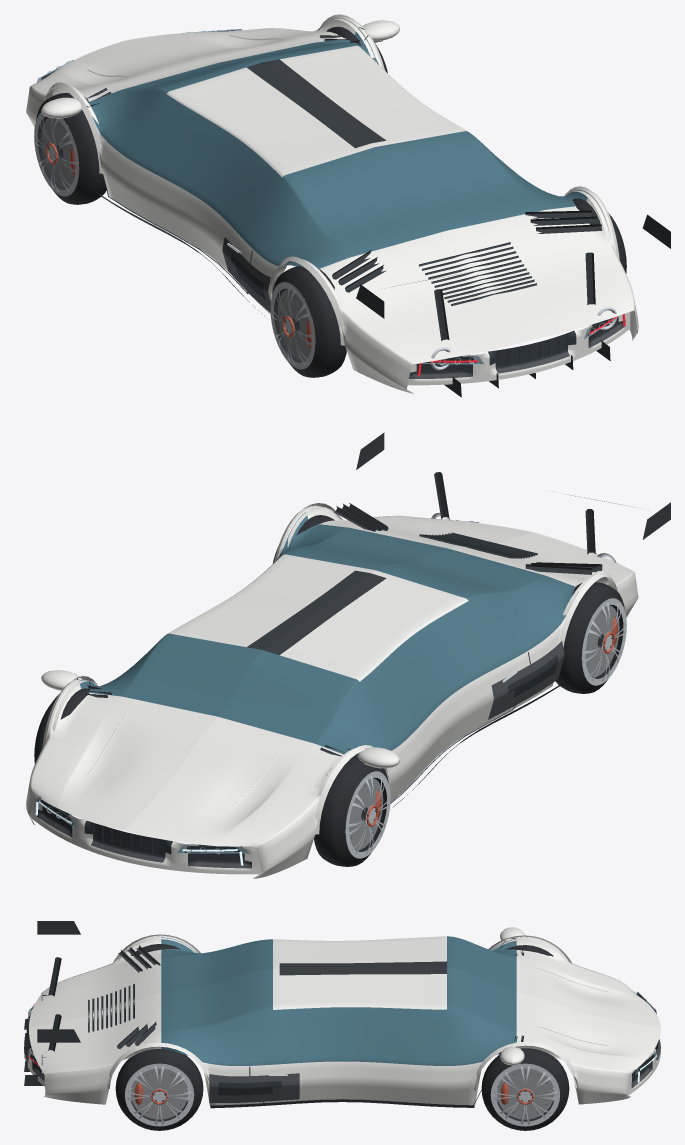
The model's file is aether_one_medium.glb.
3 views of the same model, one above another, from view 1: azimuth 30°, elevation 25°; view 2: azimuth 150°, elevation 25°; view 3: azimuth 270°, elevation 25° (orthographic). The views are drawn at different scales.
Visible parts, largest first — view 1: Body, Wheel_2, Wheel_0, Wheel_3; view 2: Body, Wheel_0, Wheel_2, Wheel_1; view 3: Body, Wheel_3, Wheel_1.
Boxes of the visible parts, x1=… form: Body: x1=26, y1=14, x2=670, y2=397; Wheel_2: x1=270, y1=266, x2=346, y2=377; Wheel_0: x1=34, y1=92, x2=106, y2=204; Wheel_3: x1=572, y1=198, x2=626, y2=273; Body: x1=26, y1=432, x2=670, y2=878; Wheel_0: x1=314, y1=755, x2=390, y2=866; Wheel_2: x1=555, y1=582, x2=626, y2=693; Wheel_1: x1=34, y1=688, x2=90, y2=763; Body: x1=24, y1=921, x2=660, y2=1108; Wheel_3: x1=115, y1=1049, x2=203, y2=1130; Wheel_1: x1=481, y1=1048, x2=569, y2=1130.
Size of the model in its own units: 2.68 by 1.01 by 5.53.
